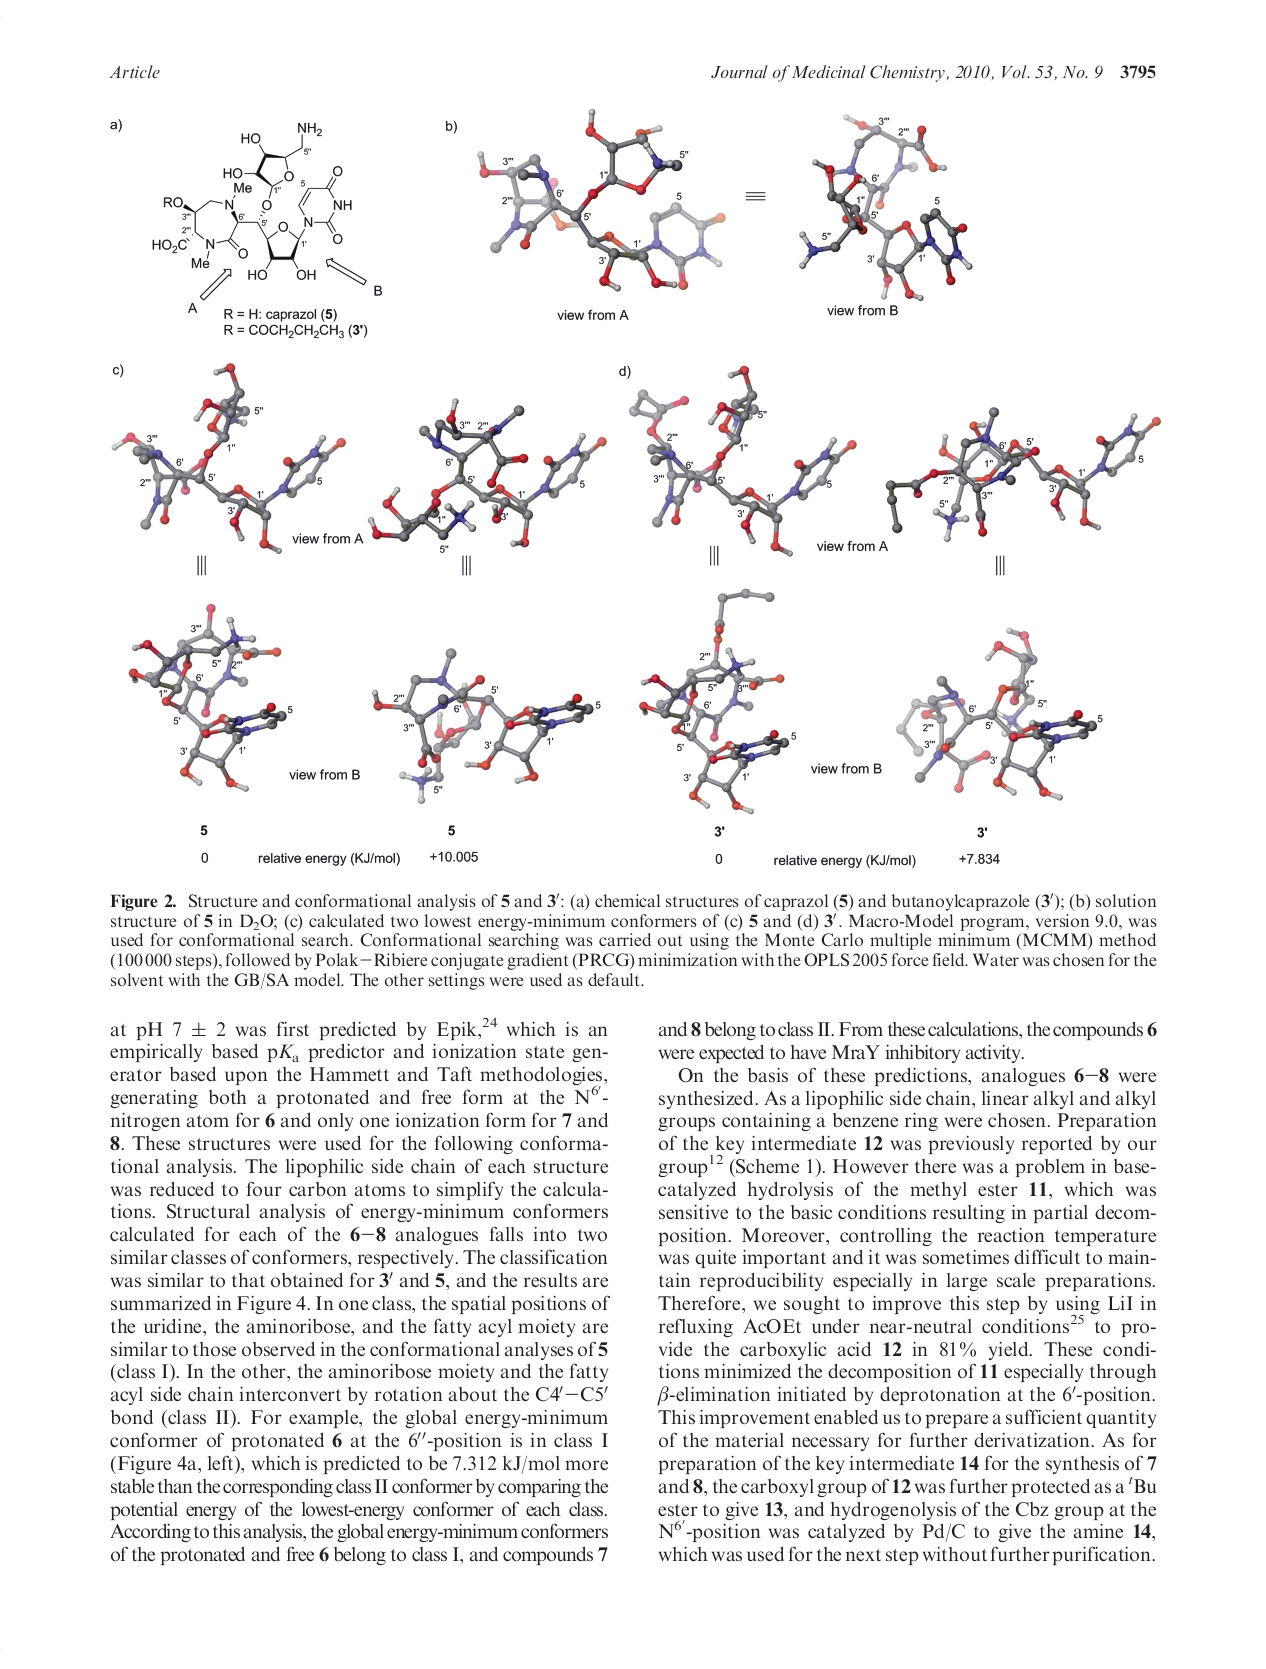exist_molecular: (150, 118, 355, 285)
